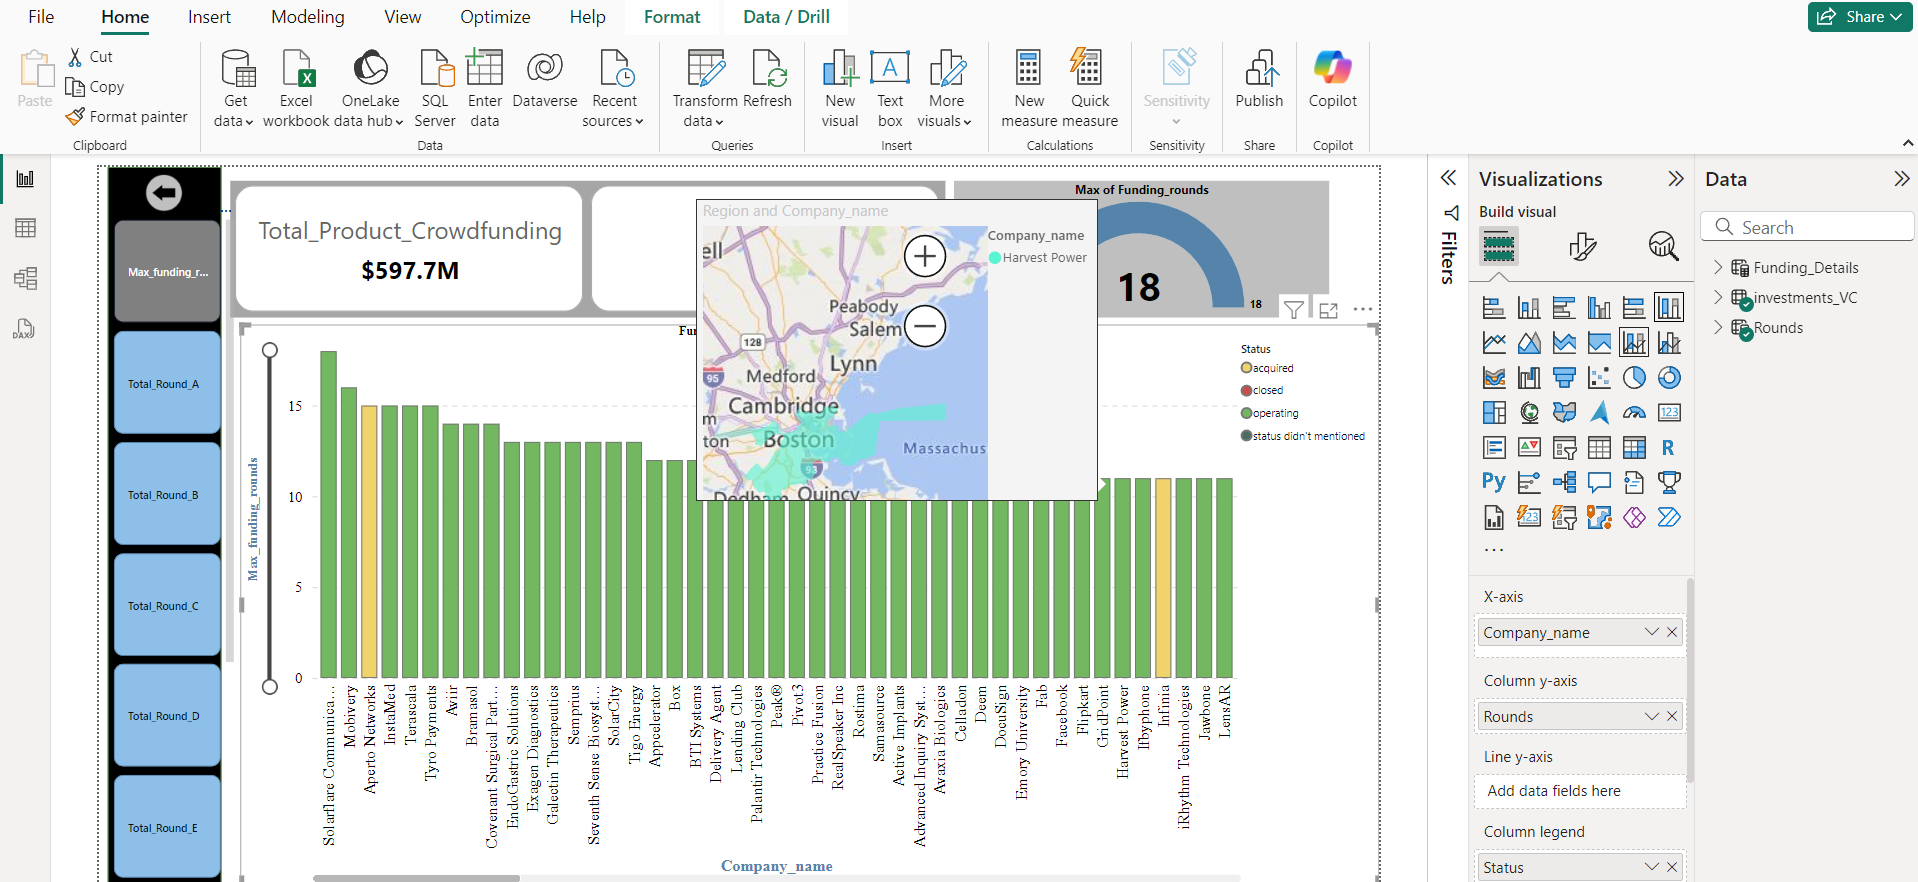

This screenshot's page, from the dashboard's own definition file:
{"tool":"powerbi","page":{"name":"Page 2","canvas":[1280,720],"ordinal":1},"visuals":[{"type":"shape","box":[9.2,0,113.7,1080.4],"z":0},{"type":"cardVisual","fields":{"Data":["investments_VC.Total_Product_Crowdfunding","investments_VC.Distinct"]},"box":[130.8,13.5,715.4,137],"z":1000},{"type":"kpi","box":[1287.6,34.9,533.8,394.4],"z":2000},{"type":"gauge","title":"Max of Funding_rounds","fields":{"Y":["Max(investments_VC.Funding_rounds)"],"MaxValue":["investments_VC.Max_funding_rounds"]},"box":[854.8,13.5,375.4,137],"z":3000},{"type":"lineStackedColumnComboChart","title":"Funding_rounds and Status of the Company_name","fields":{"Y":["investments_VC.Max_funding_rounds"],"Category":["investments_VC.Company_name"],"Series":["investments_VC.Status"]},"box":[140.8,157.1,1138.8,563.3],"z":4000},{"type":"advancedSlicerVisual","title":"Total Rounds with Companies","fields":{"Values":["Rounds.Rounds"]},"box":[10,35,130,685],"z":5000},{"type":"image","box":[41.6,0,47.7,51.4],"z":6000}]}

Visuals, with their boxes on the page's 1280x720 design canvas (x1, y1, x2, y2). These are canvas units, not pixel positions in the 1918x882 screenshot, which may show the page scaled, cropped or inside an application window:
shape: (9,0,123,1080)
cardVisual - investments_VC.Total_Product_Crowdfunding x investments_VC.Distinct: (131,14,846,150)
kpi: (1288,35,1821,429)
"Max of Funding_rounds" gauge: (855,14,1230,150)
"Funding_rounds and Status of the Company_name" lineStackedColumnComboChart: (141,157,1280,720)
"Total Rounds with Companies" advancedSlicerVisual: (10,35,140,720)
image: (42,0,89,51)
